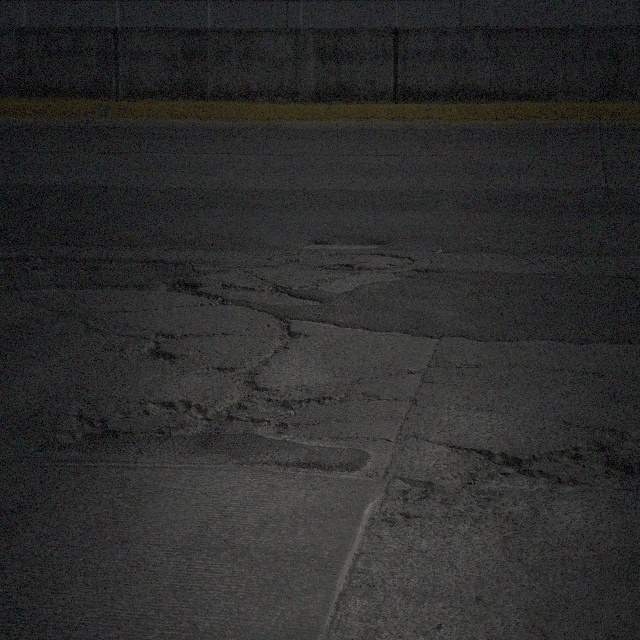pothole: (228, 314, 297, 408), (381, 469, 468, 523), (49, 393, 122, 448), (258, 396, 331, 442), (572, 438, 631, 494), (163, 394, 233, 439), (464, 443, 524, 490), (514, 462, 575, 498), (218, 361, 260, 411), (127, 325, 177, 365), (246, 290, 323, 311), (264, 312, 294, 364), (166, 276, 208, 300), (144, 398, 177, 418), (322, 260, 359, 274)
